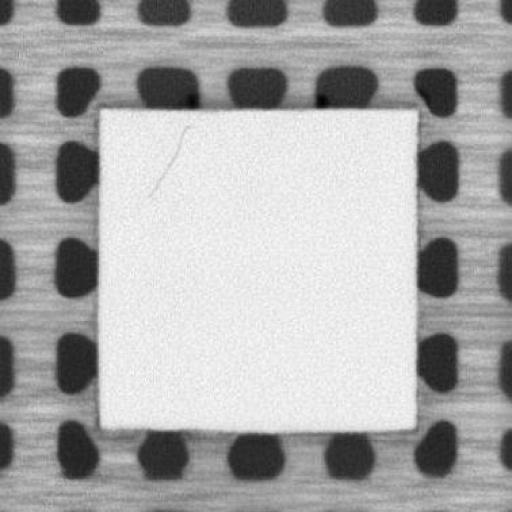DIE_CRACK: (146, 122, 190, 196)
